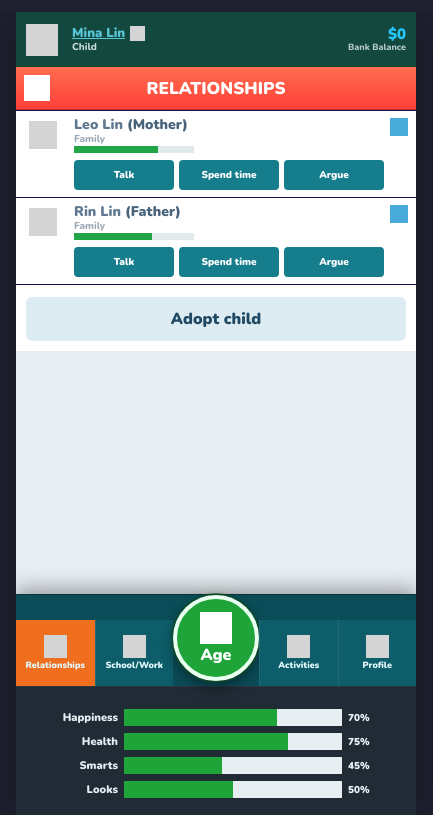
Test: App › records relationship changes in the central life timeline
Click the button "Talk" below "Leo Lin" at [124, 175], box [74,160,174,190]
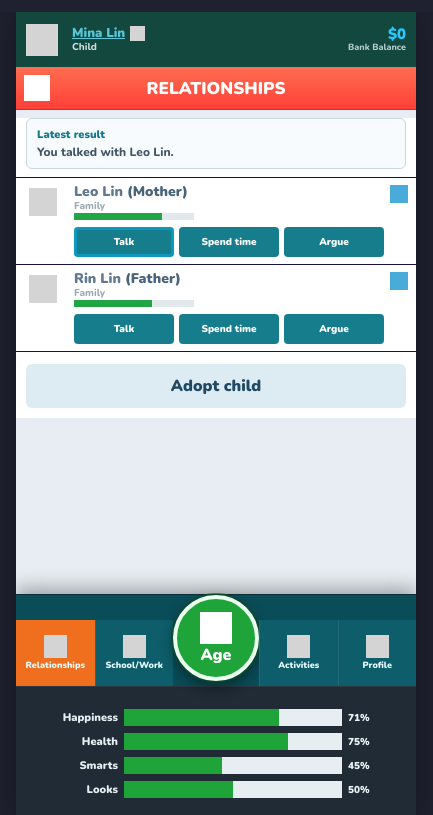
Click the button named "Life" at [37, 88], box [16,67,58,109]
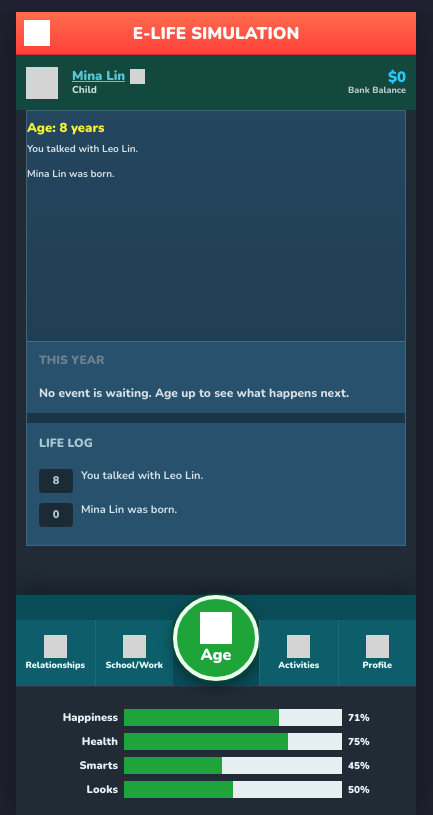
expect the list item "You talked with Leo Lin." is shown: met, box [81,468,203,483]
